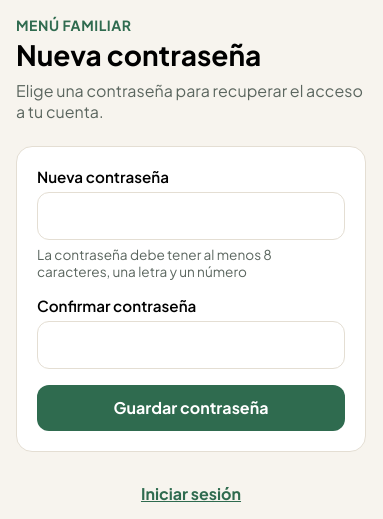
Test: HU-04 Recuperación de contraseña › si el enlace se consume después de abrirlo, muestra que ya no es válido
The image size is (383, 519).
Type "PepianDePollo9" into the password field labelled "Nueva contraseña" at (191, 216), box [37,192,345,240]
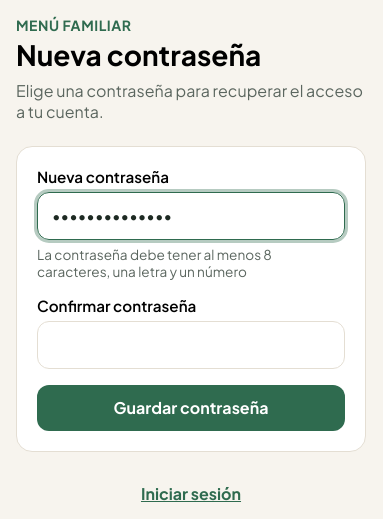
Type "PepianDePollo9" into the password field labelled "Confirmar contraseña" at (191, 345), box [37,321,345,369]
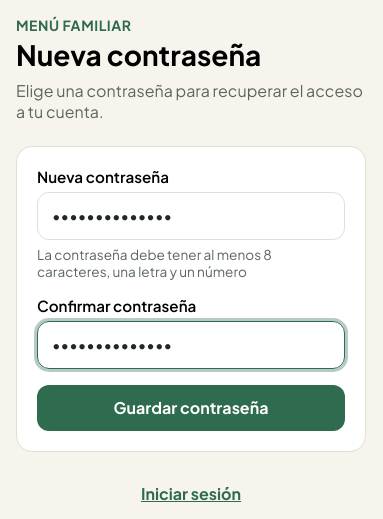
Click the button "Guardar contraseña" at (191, 408), box [37,385,345,431]
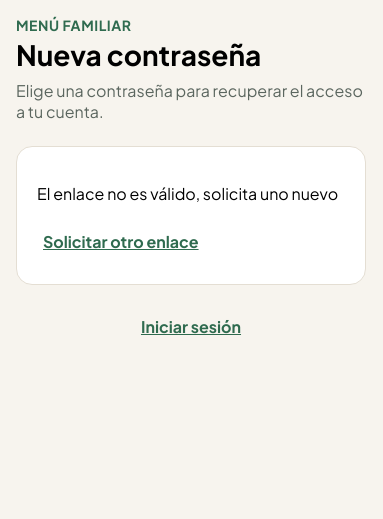
Expected: the message shows "El enlace no es válido", [37,183,338,204]
